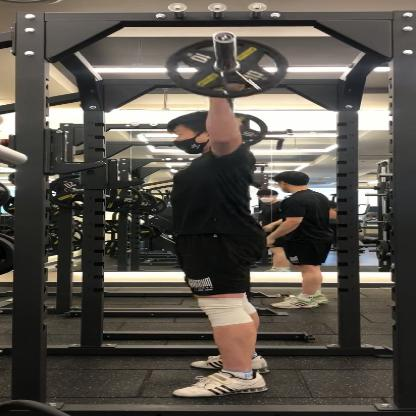Barbell: (158, 30, 297, 102)
